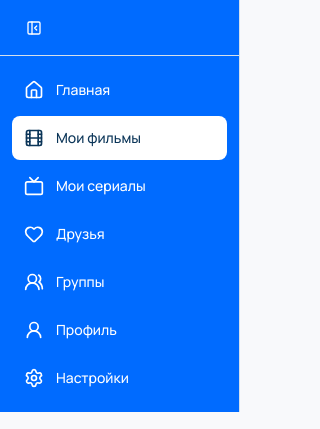
Test case: accessible names and focus › gives the collapsed rail toggle and every icon-only item an accessible name
The image size is (320, 429).
Click the button named "Свернуть меню" at (34,28), box [12,6,56,50]
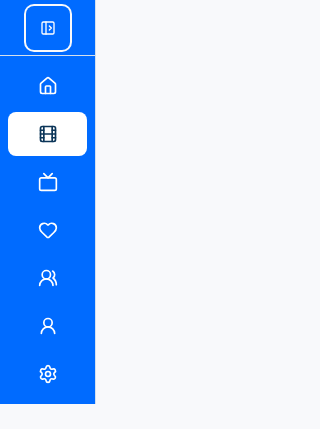
Expected: the link named "Главная" is shown, [38,76,58,96]
Expected: the button named "Развернуть меню" is shown, [26,6,70,50]
